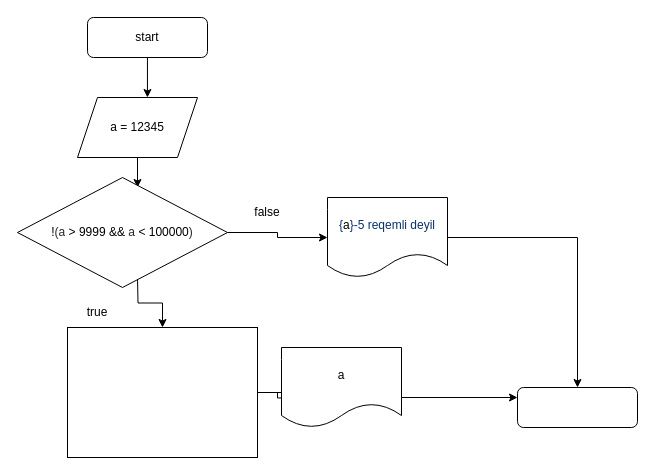
The diagram is 655 pixels wide and 475 high, and some of its shapes have lost their labels. Each missing label, with the centre of its shape:
"a = a * 18 / 100 a = a * 3 / 100" belongs at pixel 162 392.
"end" belongs at pixel 577 407.
